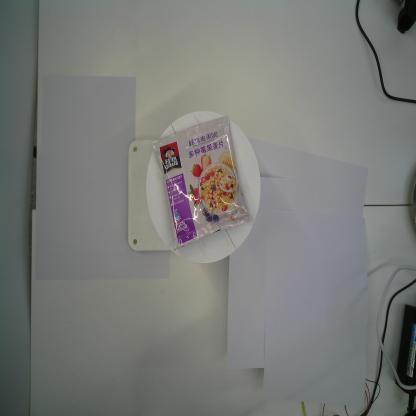Instant Drink: (151, 114, 250, 250)
